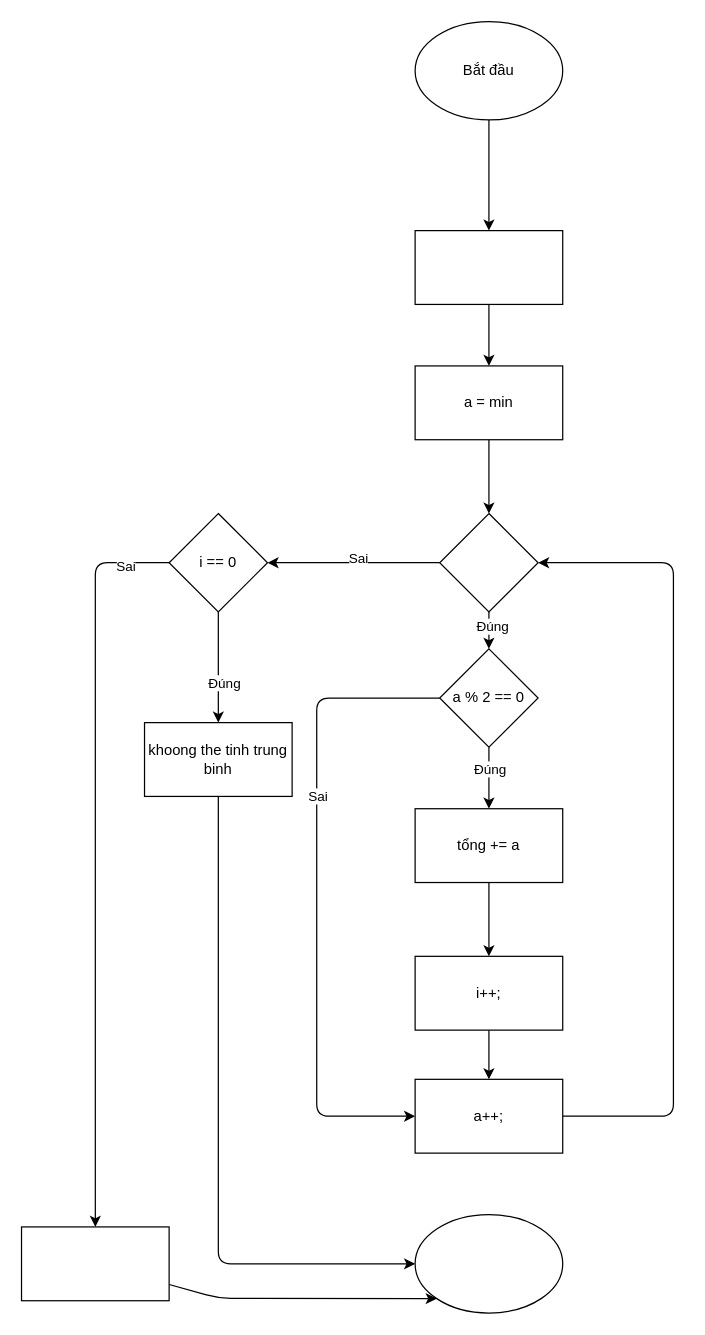
Some shapes in this 705 by 1335 pixel diagram are drawn without their labels. The box of each missing label's shape, as (x1, y1, x2, y2) in pixels:
a <= max: (438, 512, 538, 612)
Kết thúc: (414, 1213, 563, 1313)
Nhập min, max và khai báo tổng, i, trung bình, a: (414, 229, 563, 304)
trung bình = tong / i: (20, 1226, 169, 1301)
